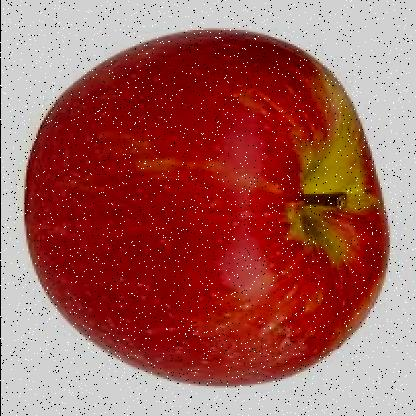apple: (20, 37, 396, 381)
